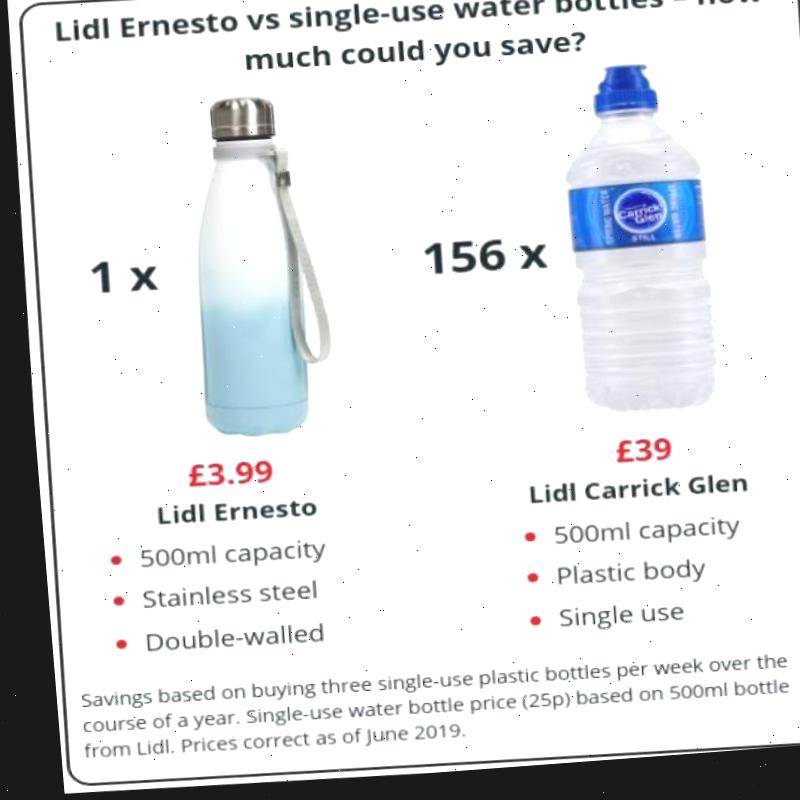botella: (550, 69, 715, 425)
